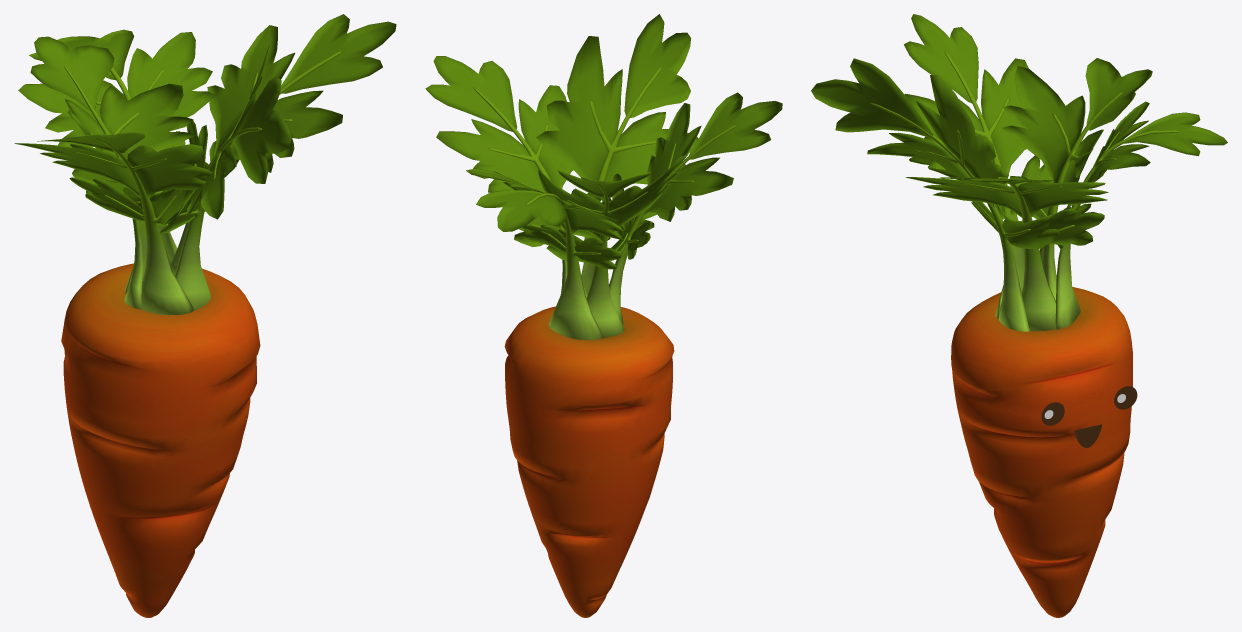
Rendered from CarrotBlend.glb.
The picture shows the model from 3 angles, left to right: view 1: azimuth 30°, elevation 25°; view 2: azimuth 150°, elevation 25°; view 3: azimuth 270°, elevation 25°; orthographic projection. The views are drawn at different scales.
Parts seen in each view (by area): view 1: carrot_leaves, carrot; view 2: carrot_leaves, carrot; view 3: carrot_leaves, carrot, Plane.
Boxes of the visible parts, bbox=[...] form: carrot_leaves: bbox=[14, 14, 396, 315]; carrot: bbox=[61, 263, 260, 617]; carrot_leaves: bbox=[425, 14, 782, 339]; carrot: bbox=[504, 306, 674, 617]; carrot_leaves: bbox=[811, 14, 1227, 331]; carrot: bbox=[951, 287, 1132, 617]; Plane: bbox=[1041, 386, 1137, 447].
Bounding box in the file's own units: 1.96 × 3.05 × 2.03.
Materials: 3 (3 with a texture image).
